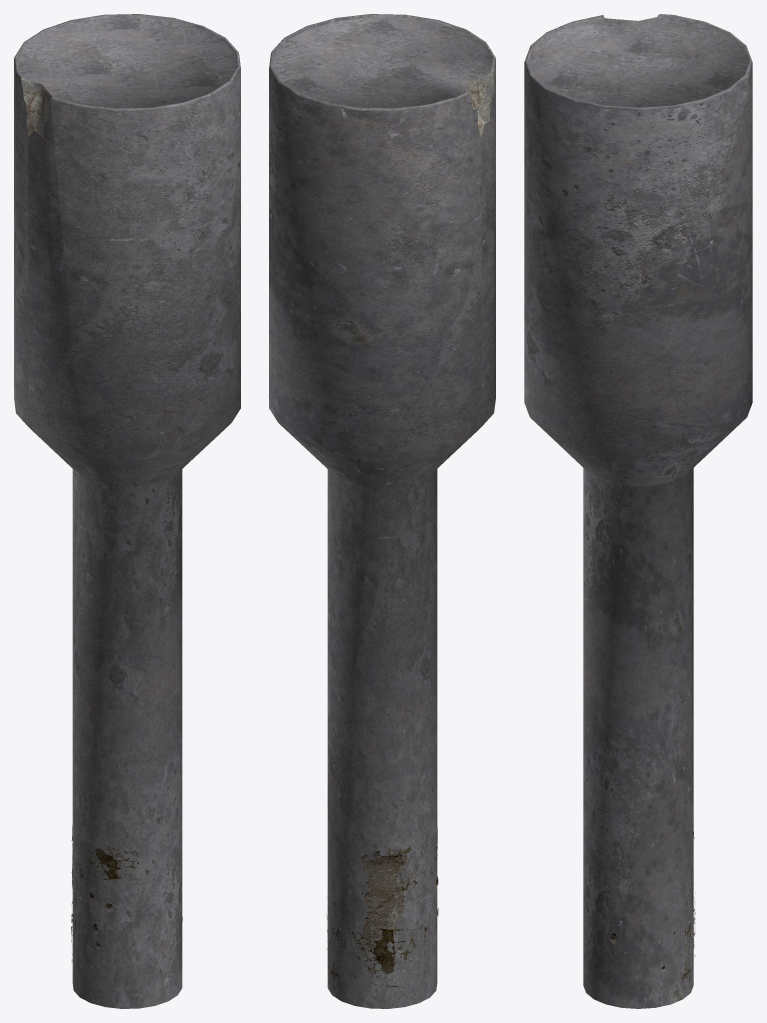
The model's file is TowerNew.glb.
The picture shows the model from 3 angles, left to right: view 1: azimuth 30°, elevation 25°; view 2: azimuth 150°, elevation 25°; view 3: azimuth 270°, elevation 25°; orthographic projection.
Parts seen in each view (by area): view 1: Plane, Plane.007, Plane.005; view 2: Plane, Plane.007, Plane.005; view 3: Plane, Plane.007.
Boxes of the visible parts, x1,y1,x2,y2 form: Plane: [14, 14, 240, 1008]; Plane.007: [71, 825, 182, 972]; Plane.005: [21, 77, 52, 137]; Plane: [269, 14, 495, 1008]; Plane.007: [326, 815, 438, 991]; Plane.005: [466, 72, 493, 136]; Plane: [524, 14, 752, 1008]; Plane.007: [609, 831, 695, 988].
Size of the model in its own units: 33.97 by 152 by 33.97.
3 materials, 3 textured.
